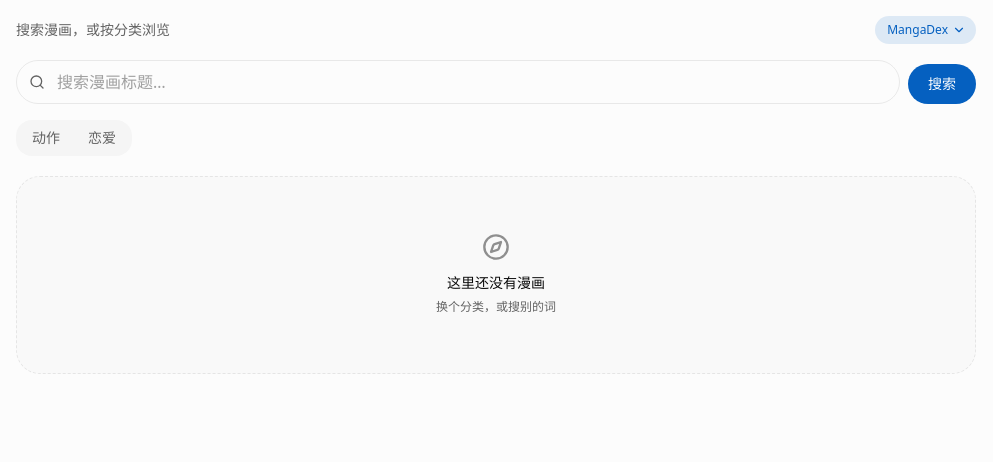
Scenario: Sources 发现 List 页面（tab 切换） › 搜索时分类 tabs 让位给搜索头
Check: the tab "动作 动作" is shown, box x1=18 y1=122 x2=74 y2=154
Type "海贼王" into the field with placeholder "搜索漫画标题…" at (458, 82), box x1=17 y1=61 x2=899 y2=103
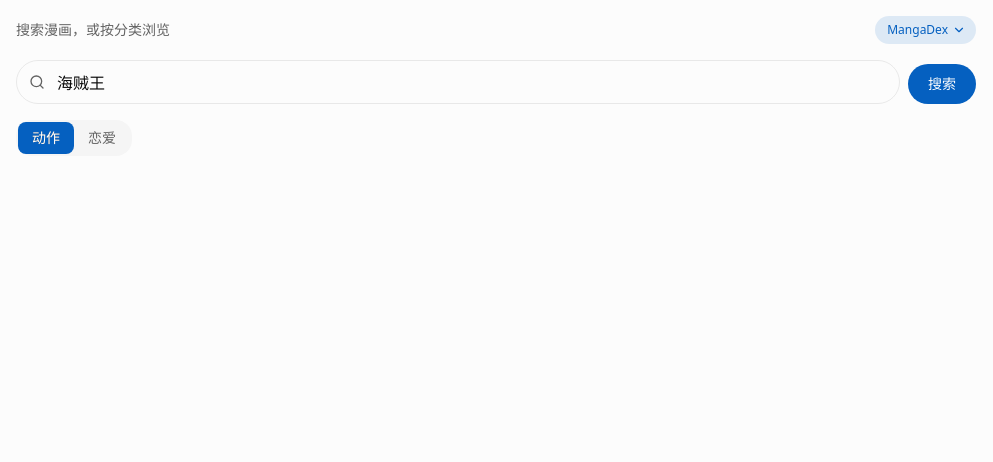
Click the button "搜索" at (942, 84), box x1=908 y1=64 x2=976 y2=104
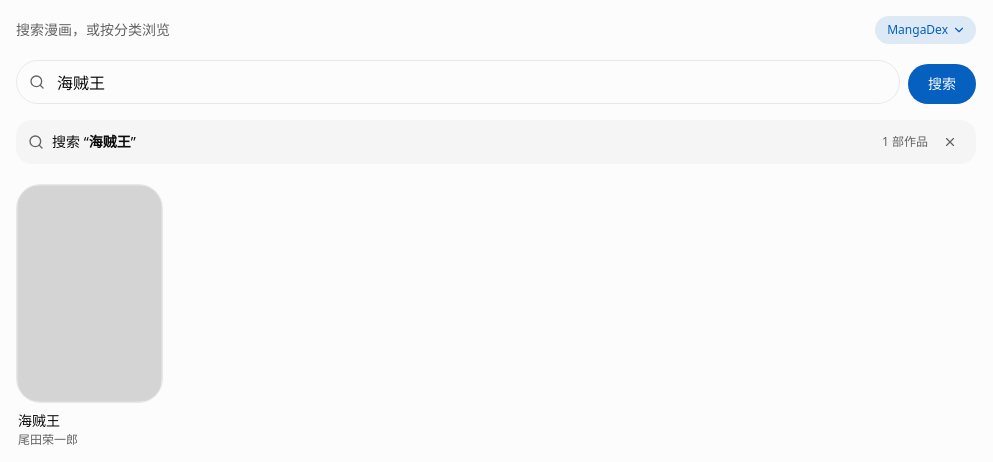
Check: the tab is gone
Check: the button named "退出搜索" is shown, box x1=936 y1=128 x2=964 y2=156
Check: the text "1 部作品" is shown, box x1=882 y1=134 x2=928 y2=150
